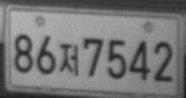2: (153, 40, 174, 82)
4: (128, 40, 151, 81)
5: (106, 39, 127, 79)
6: (36, 35, 55, 75)
7: (83, 38, 104, 76)
8: (13, 33, 34, 73)
저: (58, 43, 80, 77)
